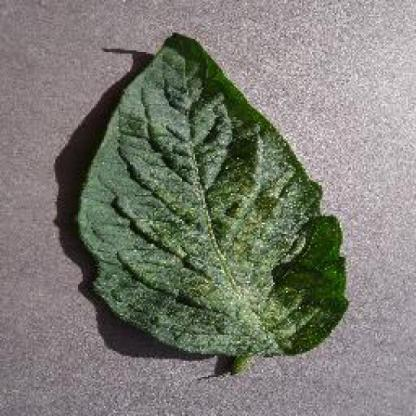Tomato_Spider_Mites: (79, 33, 348, 361)
